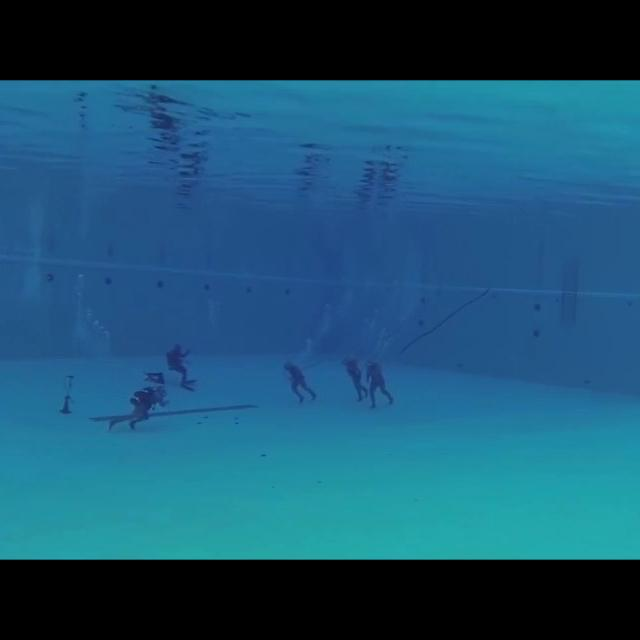human: (102, 380, 175, 440), (161, 334, 202, 399), (279, 356, 323, 409), (365, 352, 401, 414), (338, 348, 373, 409)
